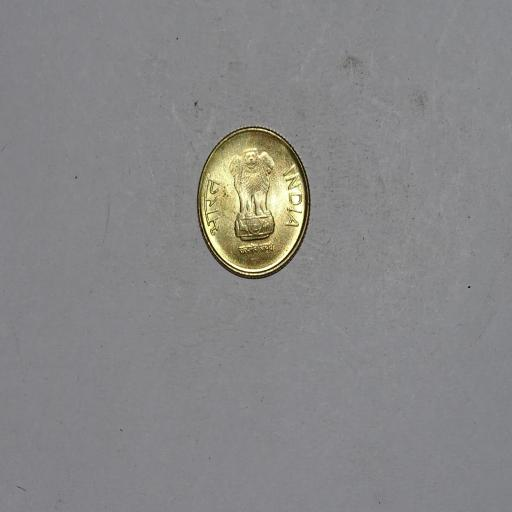rupee5: (191, 123, 315, 284)
